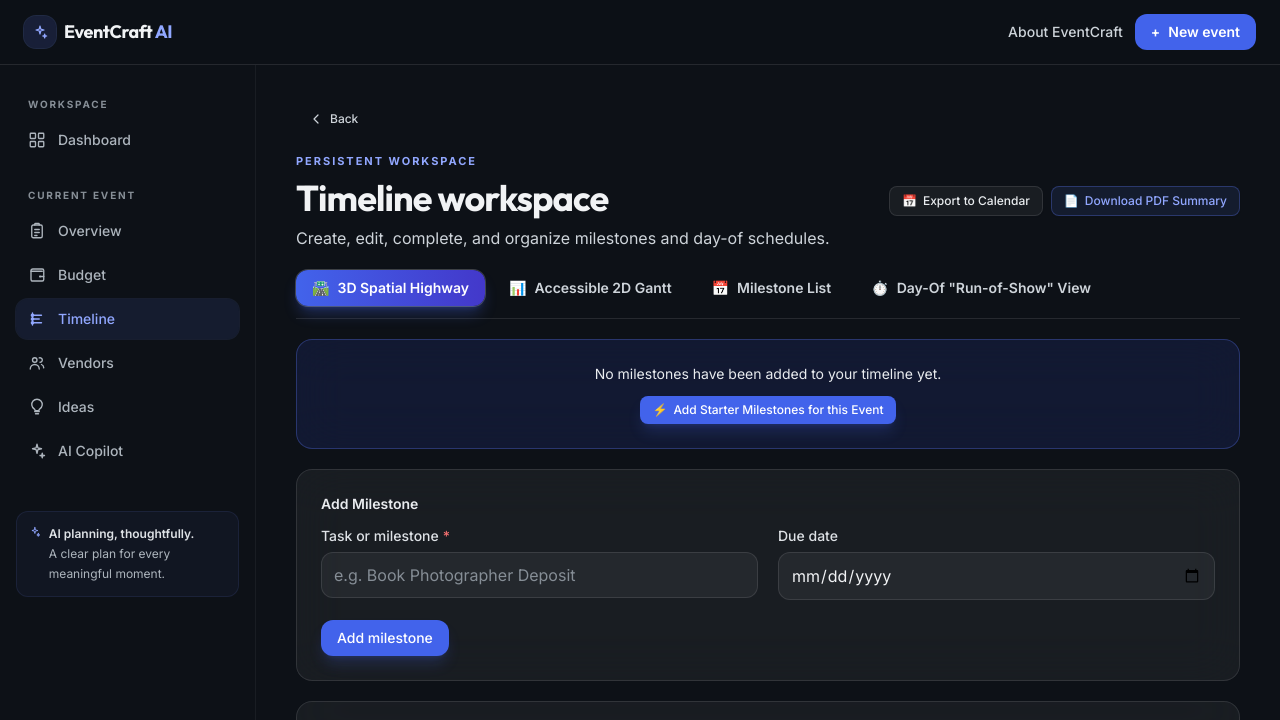
planning workspace interactions › fills the form from a run-of-show slot
Click the button "⏱️ Day-Of \"Run-of-Show\" View" at point(981, 288), box 855,270 -> 1107,306
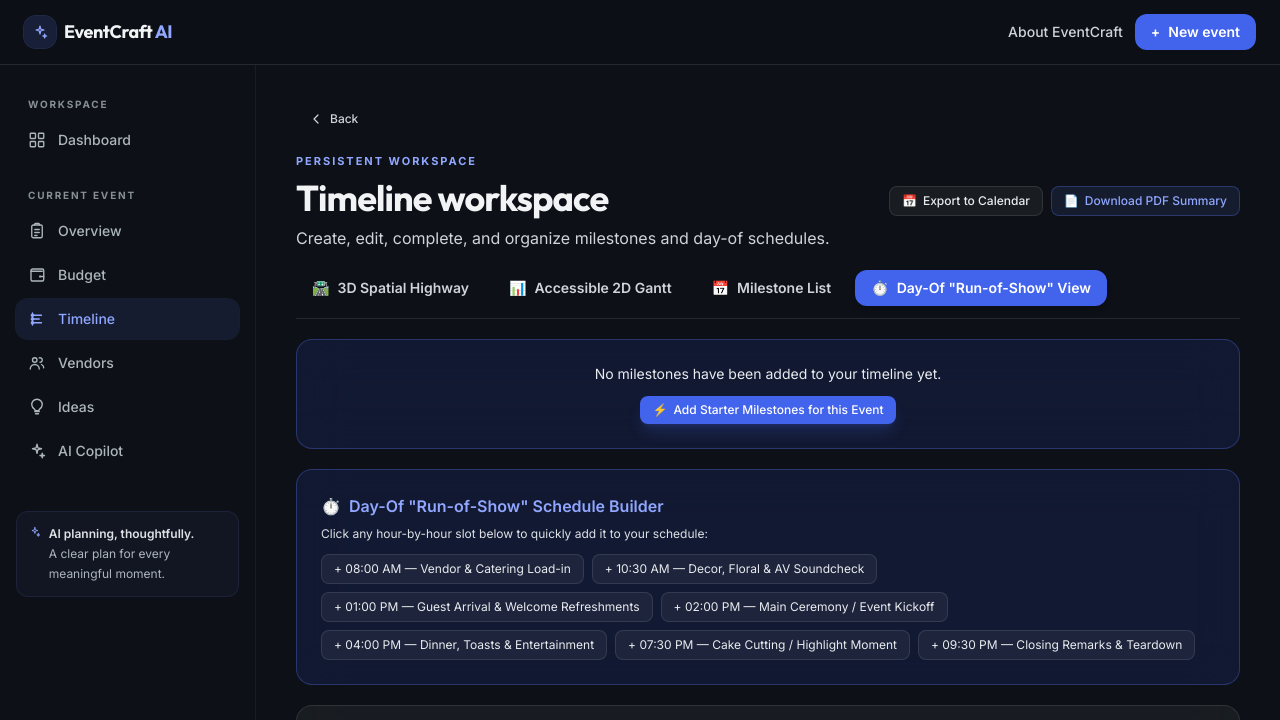
Click the button "+ 02:00 PM — Main Ceremony / Event Kickoff" at point(804, 606), box 660,592 -> 948,622
(page scrolled)
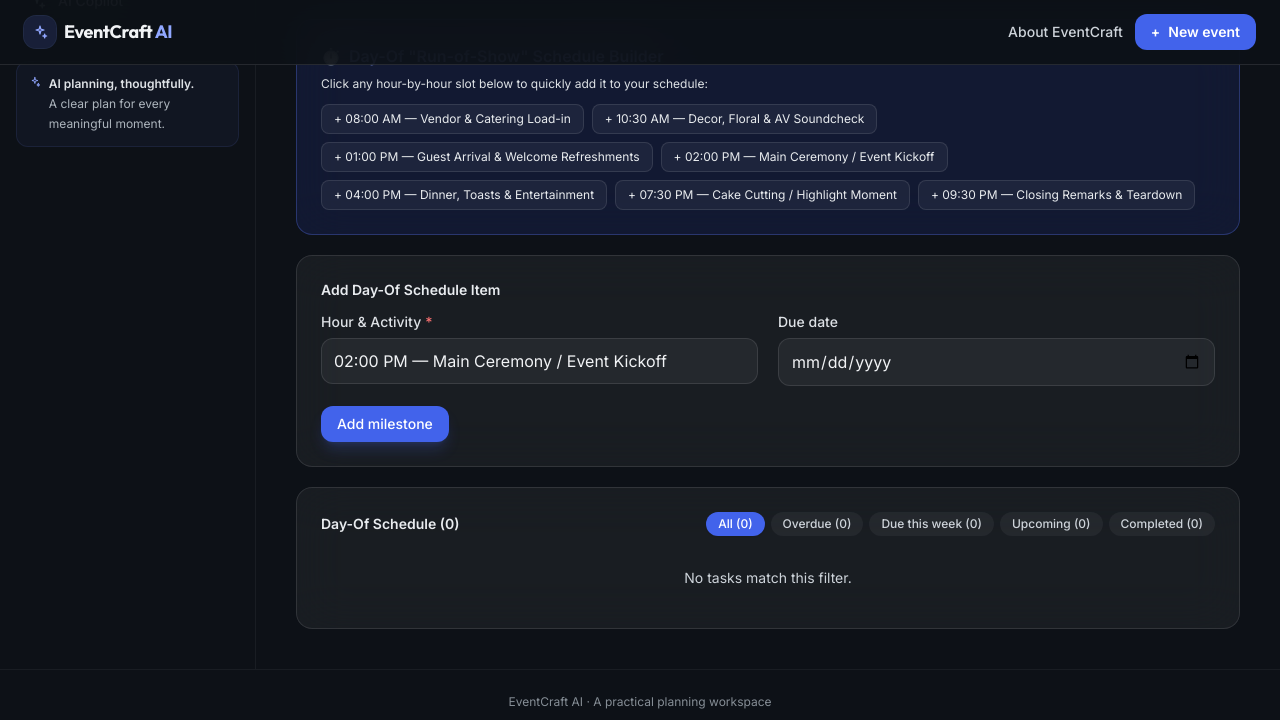
Expected: the field labelled "Hour & Activity*" holds "02:00 PM — Main Ceremony / Event Kickoff", 321,338 -> 758,384
